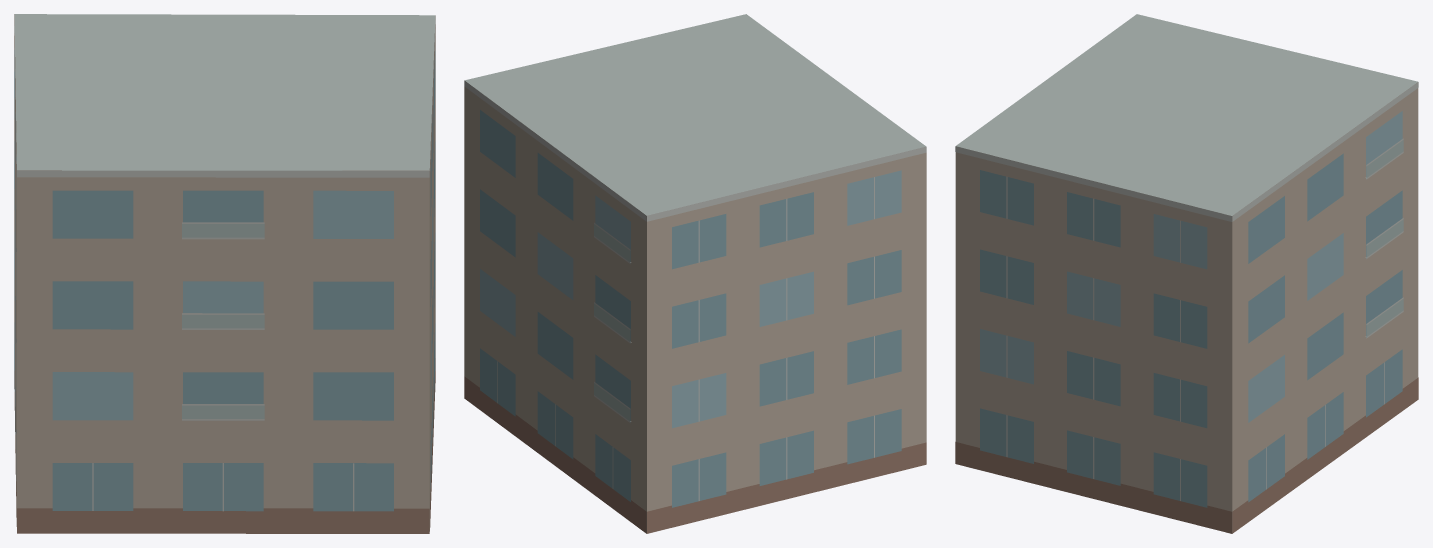
Rendered from survey-upis-32969146.glb.
The picture shows the model from 3 angles, left to right: view 1: azimuth 30°, elevation 25°; view 2: azimuth 150°, elevation 25°; view 3: azimuth 270°, elevation 25°; orthographic projection. The views are drawn at different scales.
Visible parts, largest first — view 1: survey-upis-32969146.tmp; view 2: survey-upis-32969146.tmp; view 3: survey-upis-32969146.tmp.
Boxes of the visible parts, box(x1,y1,x2,y2) form: survey-upis-32969146.tmp: box(14, 14, 435, 533); survey-upis-32969146.tmp: box(464, 14, 926, 533); survey-upis-32969146.tmp: box(955, 14, 1418, 533).
Size of the model in its own units: 17.53 by 12.85 by 16.97.
